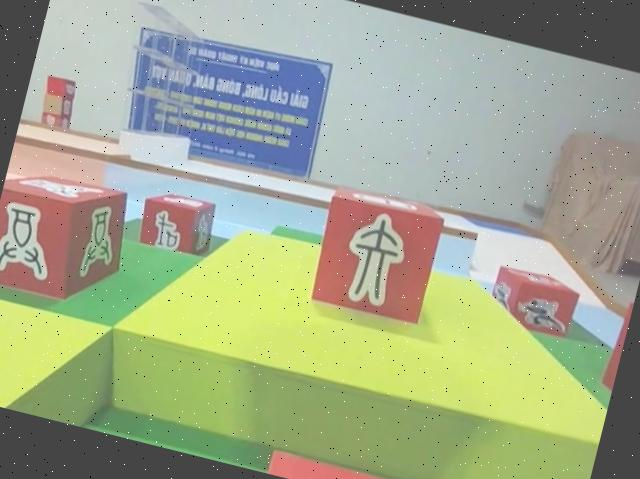R1: (485, 261, 584, 339)
R2 Fake: (304, 178, 452, 330)
R2 Real: (0, 160, 140, 315), (132, 184, 223, 264)
